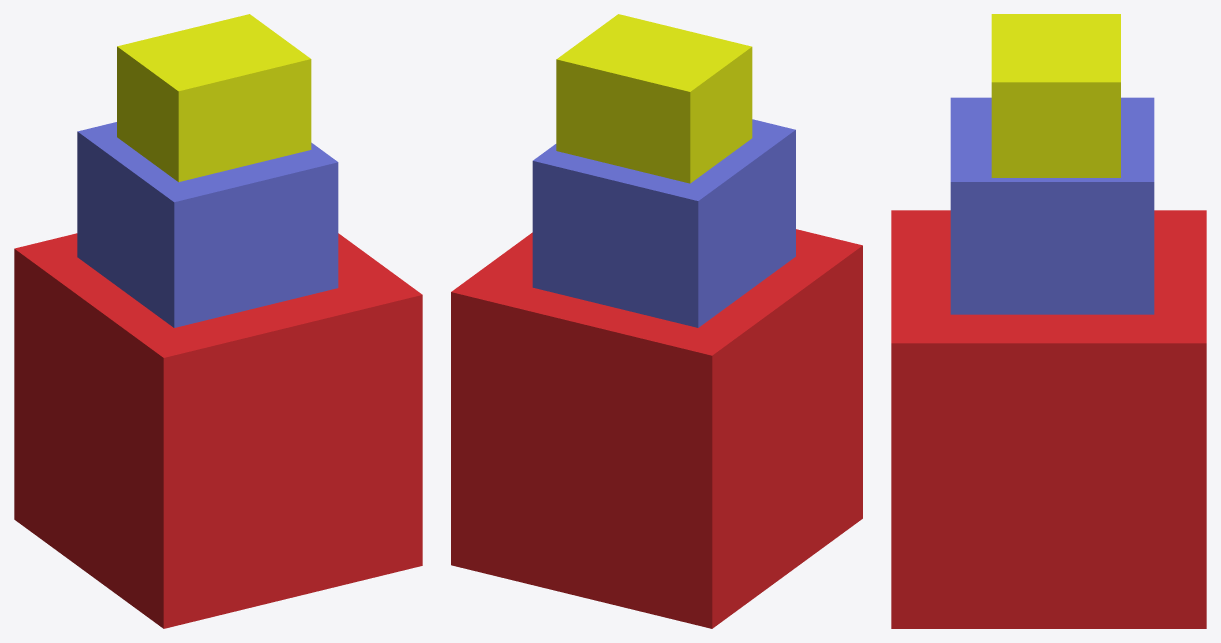
Rendered from charector .fbx.
The picture shows the model from 3 angles, left to right: view 1: azimuth 30°, elevation 25°; view 2: azimuth 150°, elevation 25°; view 3: azimuth 270°, elevation 25°; orthographic projection. The views are drawn at different scales.
Parts seen in each view (by area): view 1: Cube.002; view 2: Cube.002; view 3: Cube.002.
Boxes of the visible parts, bbox=[...] form: Cube.002: bbox=[14, 14, 422, 628]; Cube.002: bbox=[451, 14, 862, 628]; Cube.002: bbox=[891, 14, 1206, 628].
Bounding box in the file's own units: 200 × 360 × 200.
